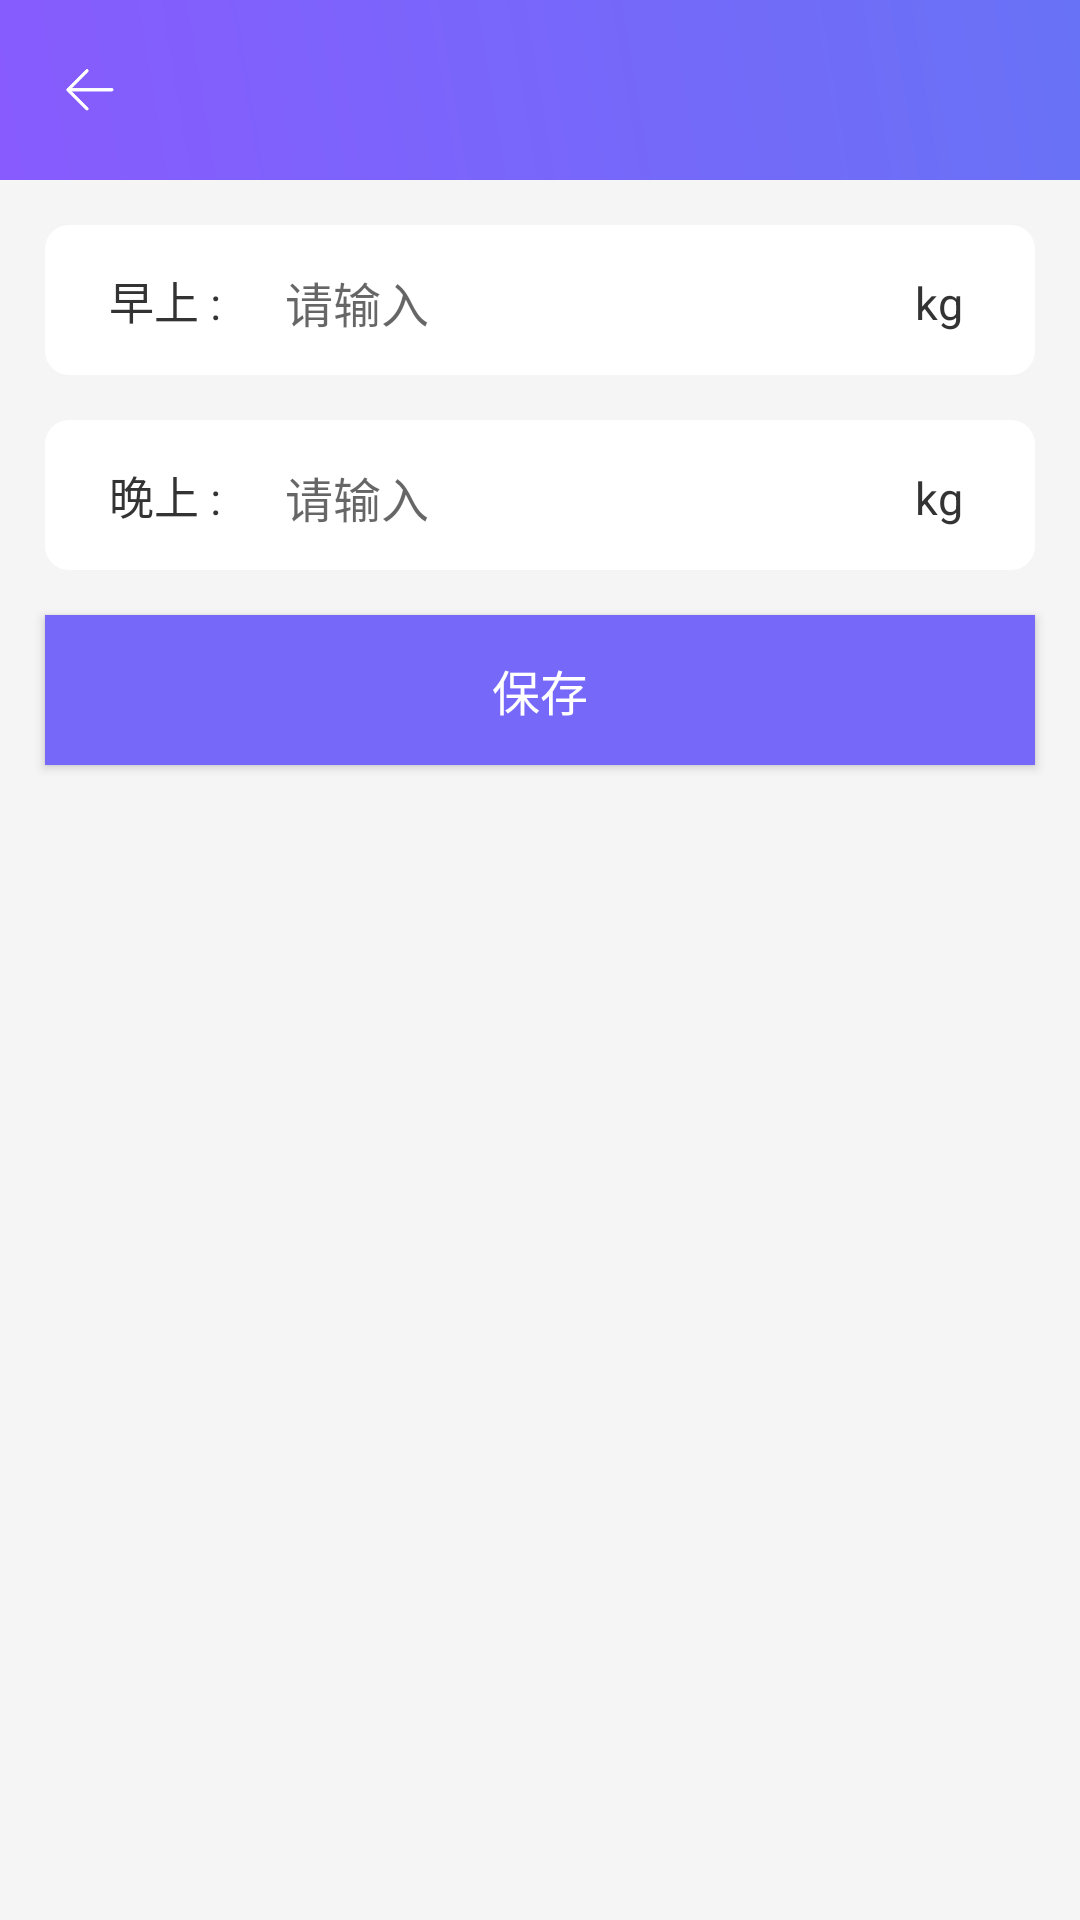

Screen size 1080w x 1920h. Icon name, then its center in pixels as point (x, y):
back: point (90, 90)
